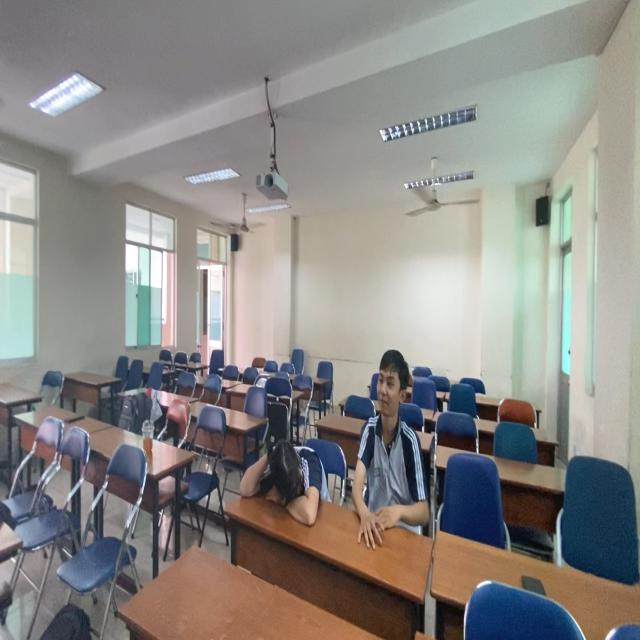sleep: (237, 426, 332, 533)
